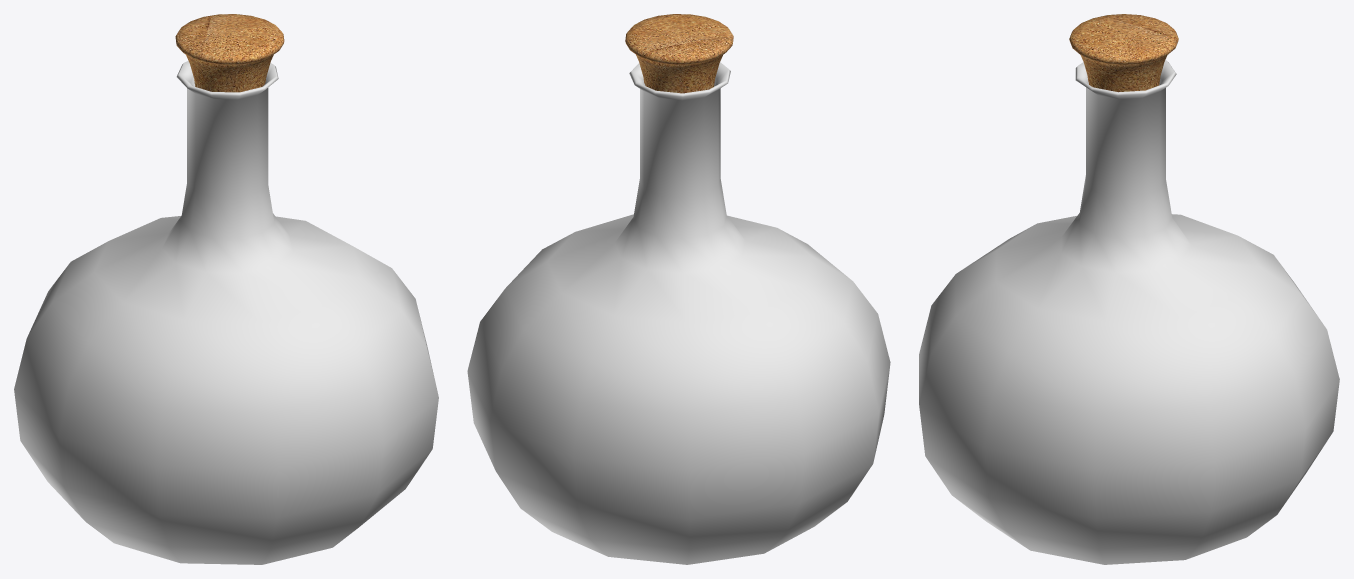
The model's file is potion_vie.fbx.
The picture shows the model from 3 angles, left to right: view 1: azimuth 30°, elevation 25°; view 2: azimuth 150°, elevation 25°; view 3: azimuth 270°, elevation 25°; orthographic projection.
Visible parts, largest first — view 1: Plane, Cylinder; view 2: Plane, Cylinder; view 3: Plane, Cylinder.
Part boxes in pixels (bbox=[...]): Plane: bbox=[14, 61, 438, 564]; Cylinder: bbox=[175, 14, 284, 92]; Plane: bbox=[467, 62, 890, 564]; Cylinder: bbox=[625, 14, 733, 93]; Plane: bbox=[919, 60, 1339, 564]; Cylinder: bbox=[1069, 14, 1178, 92].
Size of the model in its own units: 0.3396 by 0.4361 by 0.3361.
